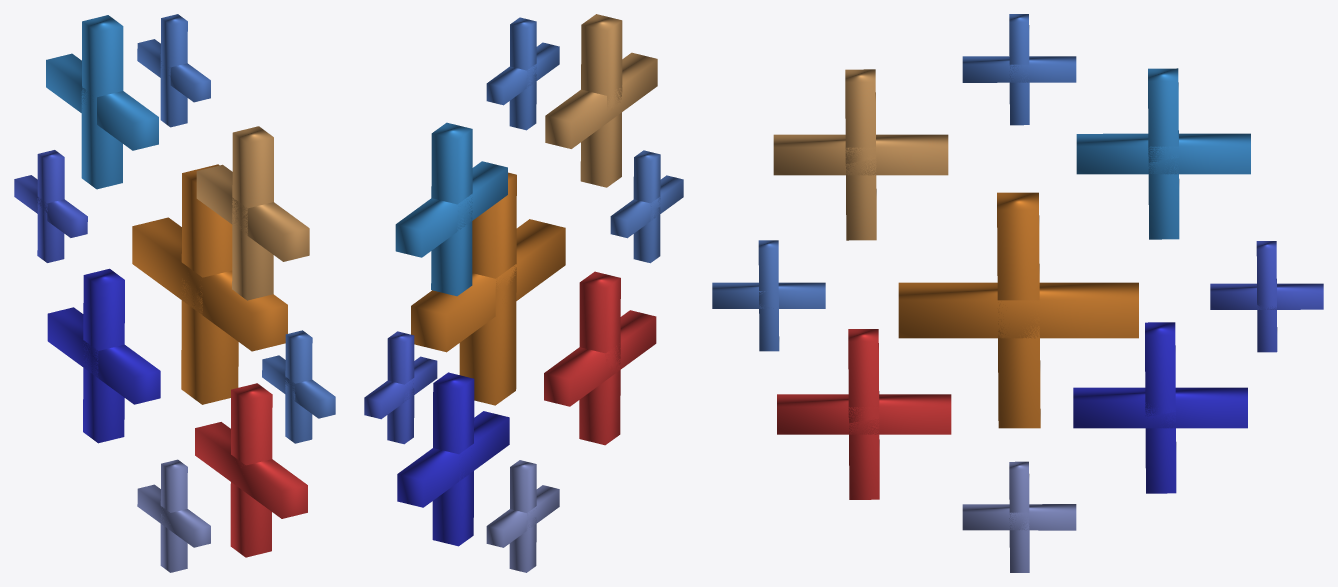
Rendered from tableau-transformed.glb.
3 renders of one model, left to right at view 1: azimuth 30°, elevation 25°; view 2: azimuth 150°, elevation 25°; view 3: azimuth 270°, elevation 25°, orthographic.
Parts seen in each view (by area): view 1: Object_4; view 2: Object_4; view 3: Object_4.
Part boxes in pixels (x1=…): Object_4: x1=14, y1=14, x2=335, y2=572; Object_4: x1=364, y1=14, x2=683, y2=572; Object_4: x1=712, y1=14, x2=1323, y2=572.
Size of the model in its own units: 3.7 by 28.97 by 29.16.
1 material, 1 textured.
